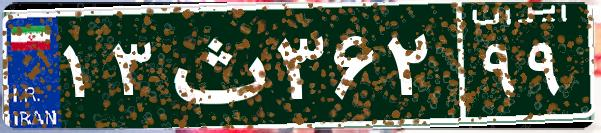1: (57, 26, 110, 107)
2: (385, 28, 445, 110)
3: (273, 28, 330, 110), (110, 28, 158, 105)
6: (330, 28, 385, 110)
9: (475, 38, 525, 113), (525, 38, 570, 115)
ث: (158, 15, 273, 115)
